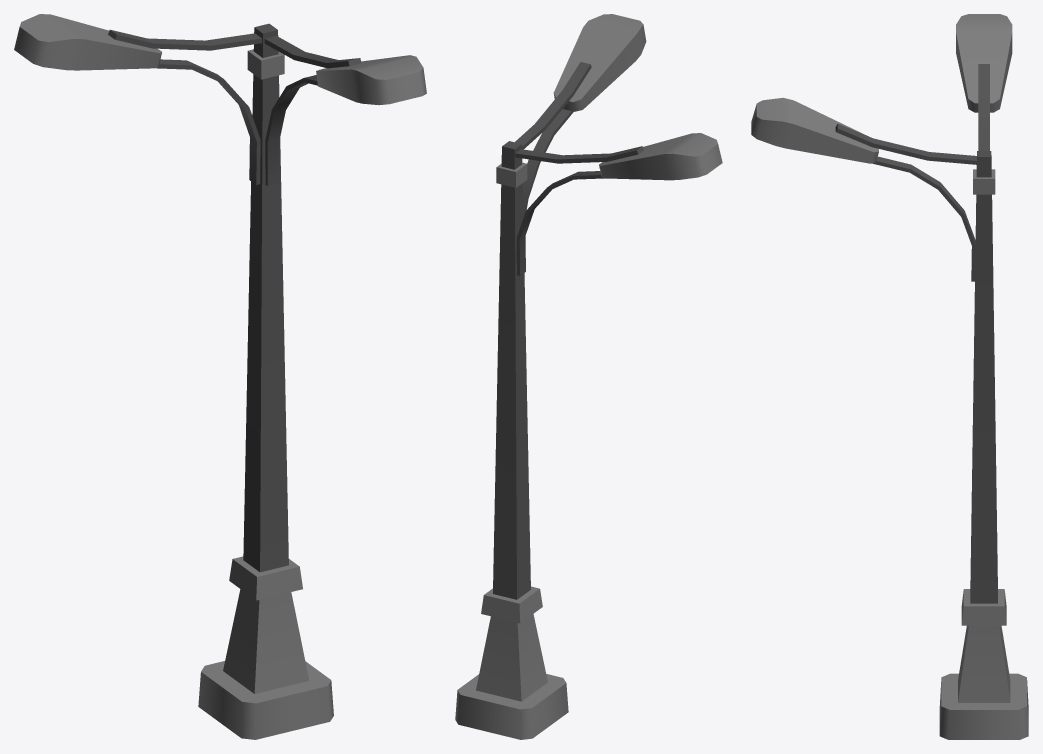
The model's file is Flashlight2.fbx.
3 renders of one model, left to right at view 1: azimuth 30°, elevation 25°; view 2: azimuth 150°, elevation 25°; view 3: azimuth 270°, elevation 25°, orthographic. The views are drawn at different scales.
Parts seen in each view (by area): view 1: Streetlight_2B; view 2: Streetlight_2B; view 3: Streetlight_2B.
Part boxes in pixels (box(x1,y1,x2,y2)): Streetlight_2B: box(14, 14, 426, 739); Streetlight_2B: box(455, 14, 722, 739); Streetlight_2B: box(751, 14, 1028, 739).
Size of the model in its own units: 4461 by 10860 by 4461.
